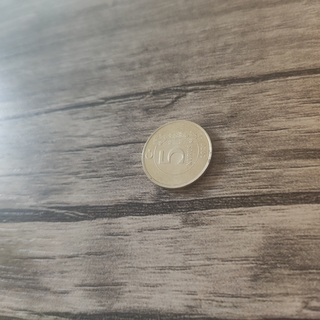5KURUS: (140, 118, 214, 190)
